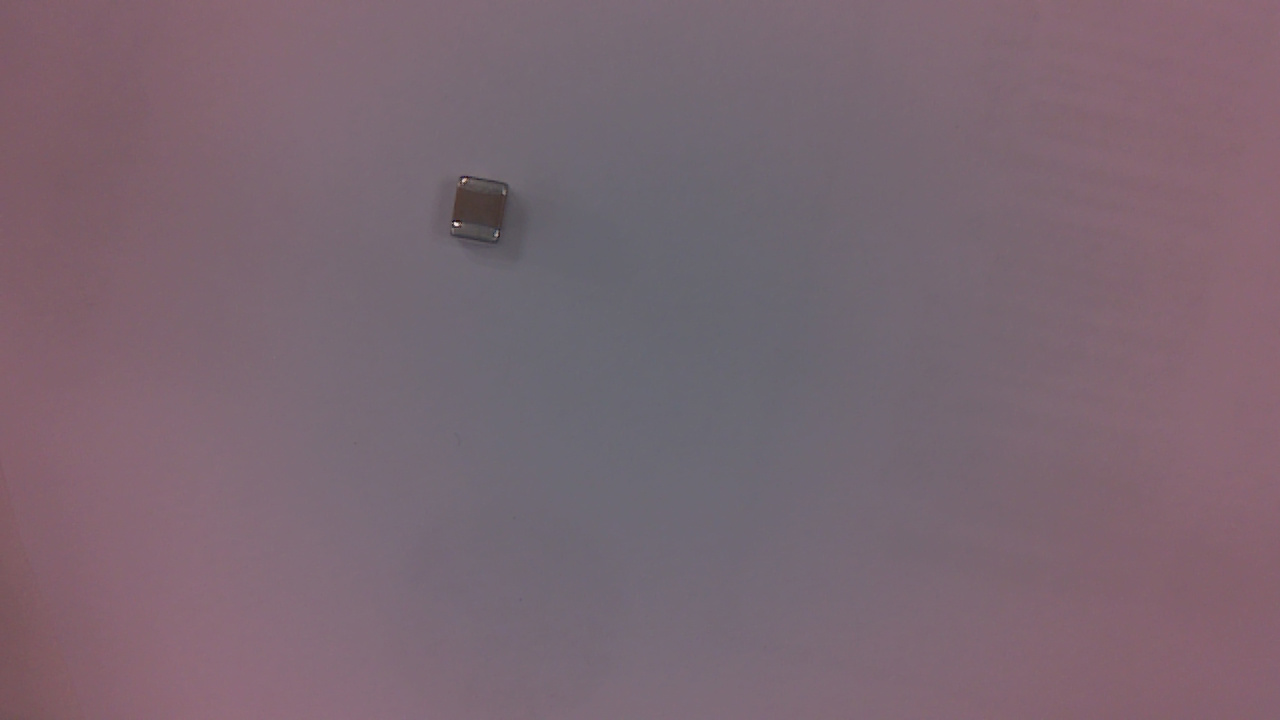Condensator: (452, 178, 514, 252)
